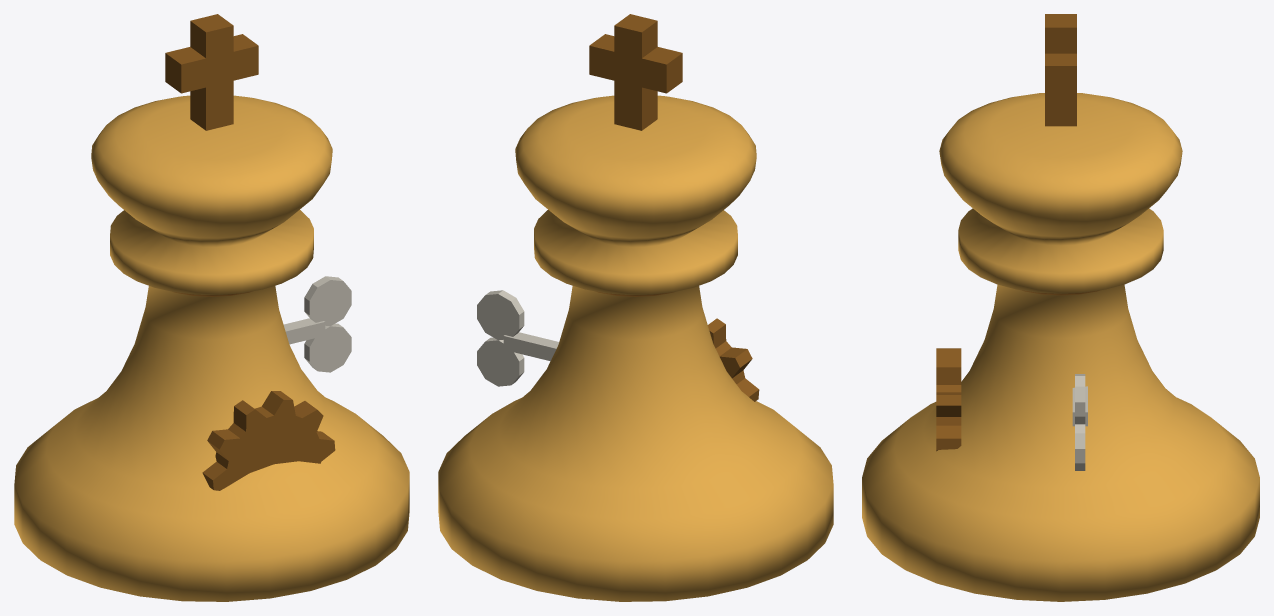
File: king.glb
3 renders of one model, left to right at view 1: azimuth 30°, elevation 25°; view 2: azimuth 150°, elevation 25°; view 3: azimuth 270°, elevation 25°, orthographic.
Parts seen in each view (by area): view 1: king_body, king_gear, king_cross, king_key; view 2: king_body, king_cross, king_key, king_gear; view 3: king_body, king_cross, king_gear, king_key.
Part boxes in pixels (box(x1,y1,x2,y2)): king_body: box(14, 95, 409, 601); king_gear: box(202, 391, 335, 490); king_cross: box(165, 14, 258, 130); king_key: box(283, 276, 351, 372); king_body: box(438, 95, 833, 601); king_cross: box(589, 14, 682, 130); king_key: box(477, 290, 559, 386); king_gear: box(708, 318, 759, 401); king_body: box(862, 93, 1259, 601); king_cross: box(1045, 14, 1076, 126); king_gear: box(936, 348, 961, 451); king_key: box(1072, 374, 1087, 470).
Size of the model in its own units: 0.62 by 0.855 by 0.62.
